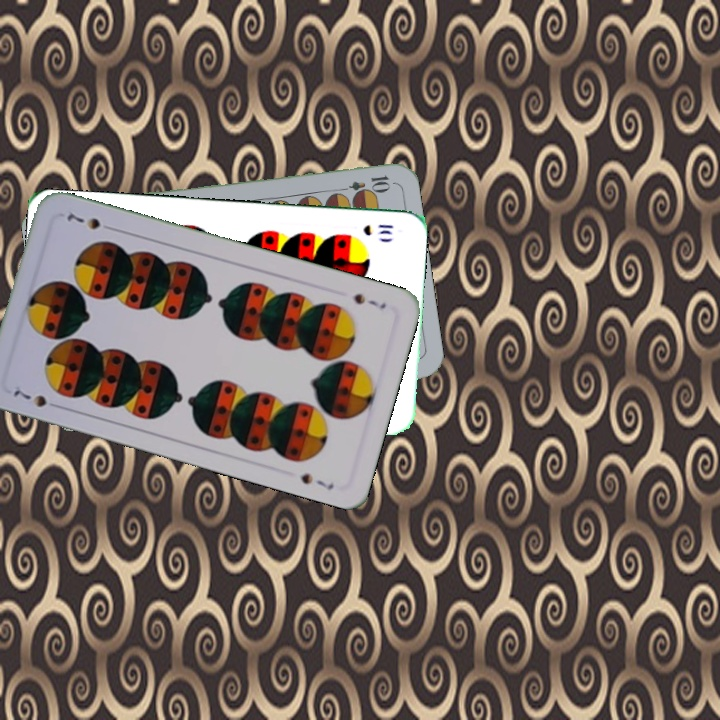E10: (334, 171, 393, 196)
S10: (359, 220, 396, 238)
S7: (9, 381, 64, 412), (350, 289, 389, 312)
